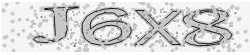6: (81, 7, 133, 47)
8: (181, 8, 232, 50)
J: (31, 4, 82, 47)
X: (133, 7, 183, 49)
